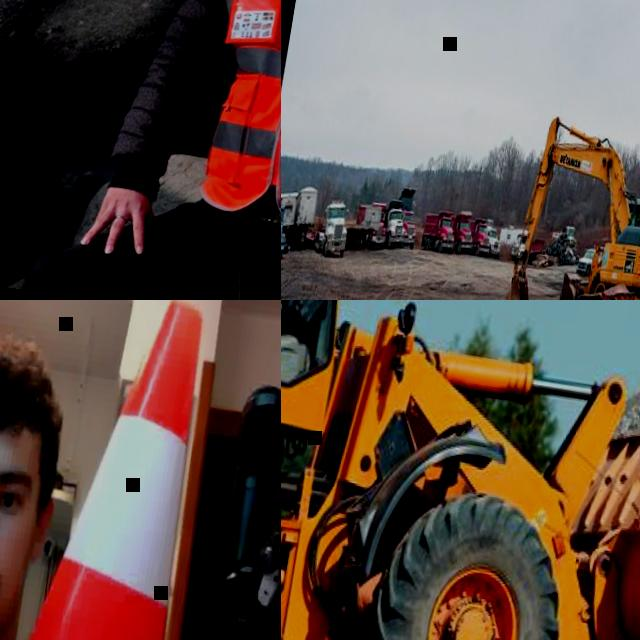Hardhat: (597, 246, 600, 250)
NO-Hardhat: (0, 319, 67, 465)
Person: (0, 311, 258, 640), (17, 0, 281, 300), (589, 245, 601, 284)
Safety Cone: (0, 300, 280, 640)
Safety Vest: (191, 0, 281, 248), (593, 252, 599, 266)
vehicle: (281, 300, 640, 640), (502, 113, 640, 300), (548, 30, 640, 300), (303, 193, 354, 262), (391, 186, 424, 250), (421, 207, 459, 255), (380, 198, 411, 251), (446, 208, 477, 256), (510, 230, 546, 267), (365, 201, 392, 248), (465, 217, 494, 258), (281, 183, 295, 262), (578, 242, 606, 277), (481, 217, 506, 256), (551, 223, 580, 253)
